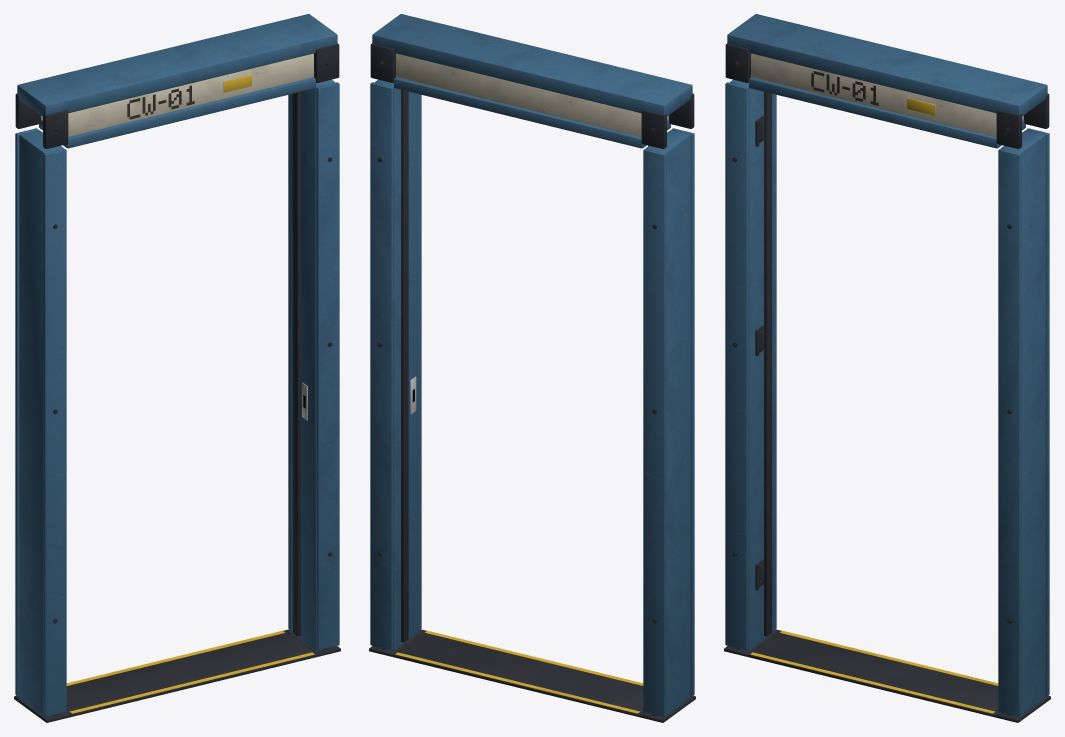
The model's file is door_frame.glb.
3 views of the same model, side by side, from view 1: azimuth 30°, elevation 25°; view 2: azimuth 150°, elevation 25°; view 3: azimuth 330°, elevation 25° (orthographic).
Parts seen in each view (by area): view 1: DoorFrameBody; view 2: DoorFrameBody; view 3: DoorFrameBody.
Part boxes in pixels (bbox=[...]): DoorFrameBody: bbox=[14, 14, 340, 722]; DoorFrameBody: bbox=[369, 14, 695, 722]; DoorFrameBody: bbox=[724, 14, 1050, 722].
Bounding box in the file's own units: 1.25 × 2.5 × 0.2426.
Materials: 8 (6 with a texture image).
